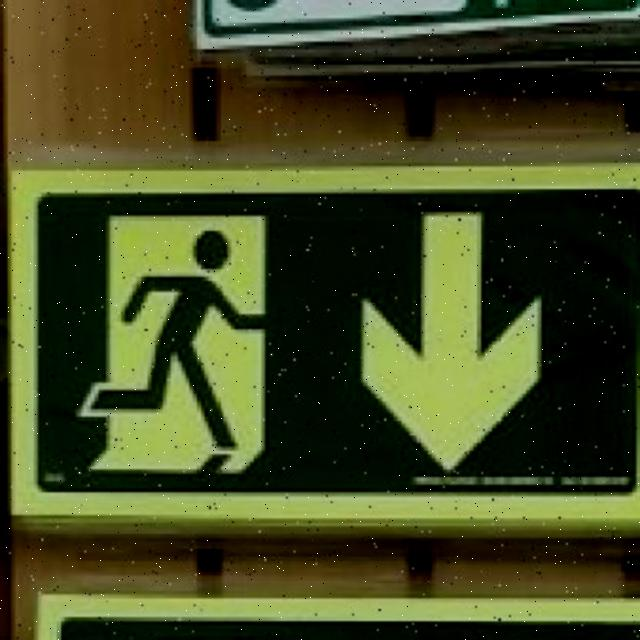emergency_exit: (7, 163, 639, 538)
